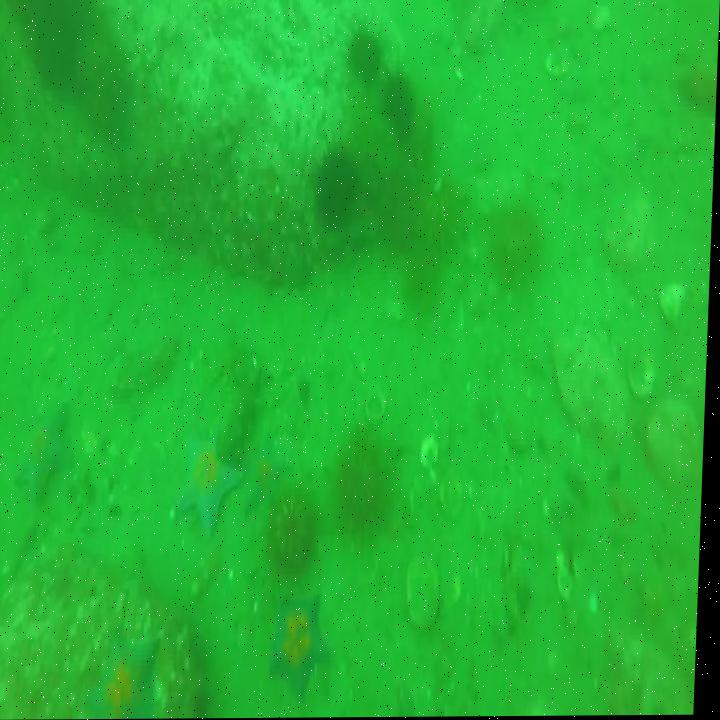echinus: (339, 421, 397, 544), (488, 187, 549, 294), (269, 492, 326, 572), (315, 149, 360, 220), (380, 78, 419, 135), (346, 30, 385, 85)
scallop: (408, 561, 447, 636), (628, 348, 660, 403), (444, 473, 467, 518), (422, 433, 445, 474), (367, 387, 388, 426), (545, 50, 568, 79), (561, 567, 579, 603)
starfish: (175, 429, 246, 536), (268, 595, 334, 709), (18, 398, 83, 507), (91, 637, 165, 719), (248, 437, 289, 530)
